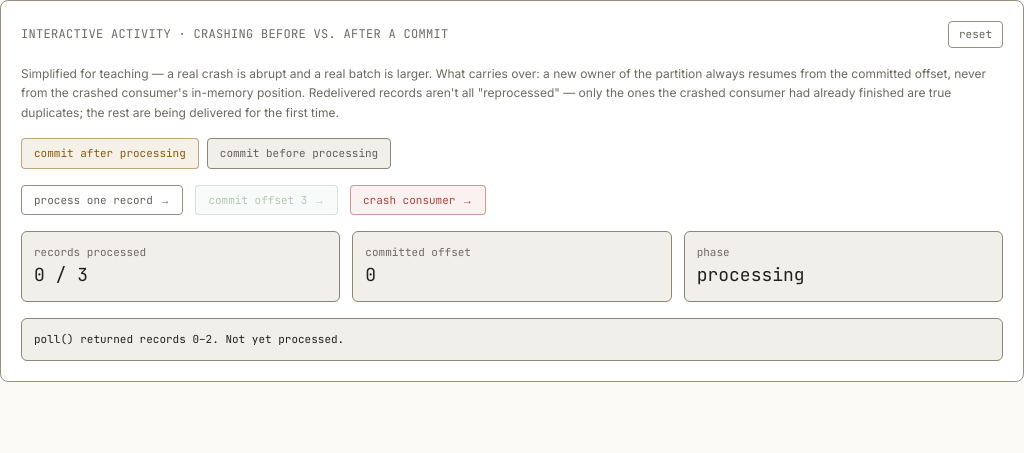
Test case: CommitCrashDemo › enforces the commit-after-processing policy through the buttons
This screenshot has width=1024, height=453.
Expected: the button "commit offset 3 →" is disabled, [195, 184, 338, 215]
Click the button "process one record →". click: (102,200)
box: [21, 184, 183, 215]
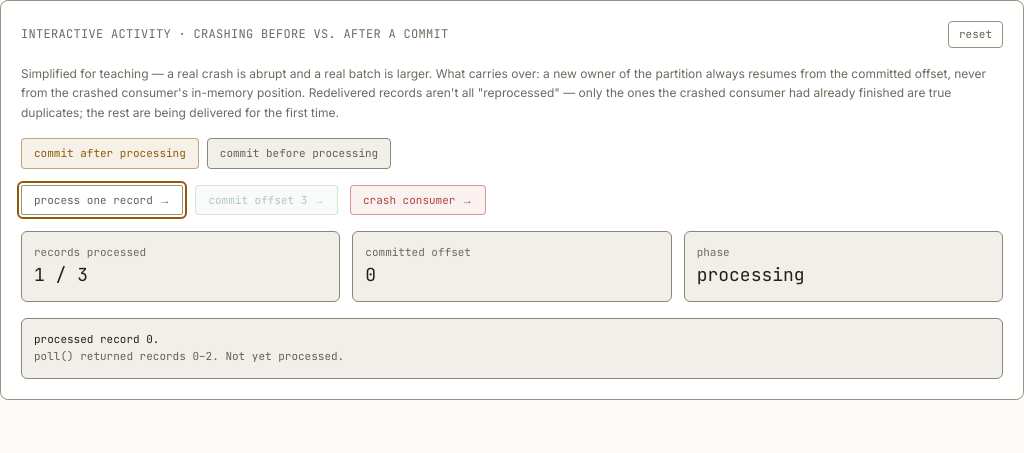
Click the button "process one record →". click: (102,200)
box: [21, 184, 183, 215]
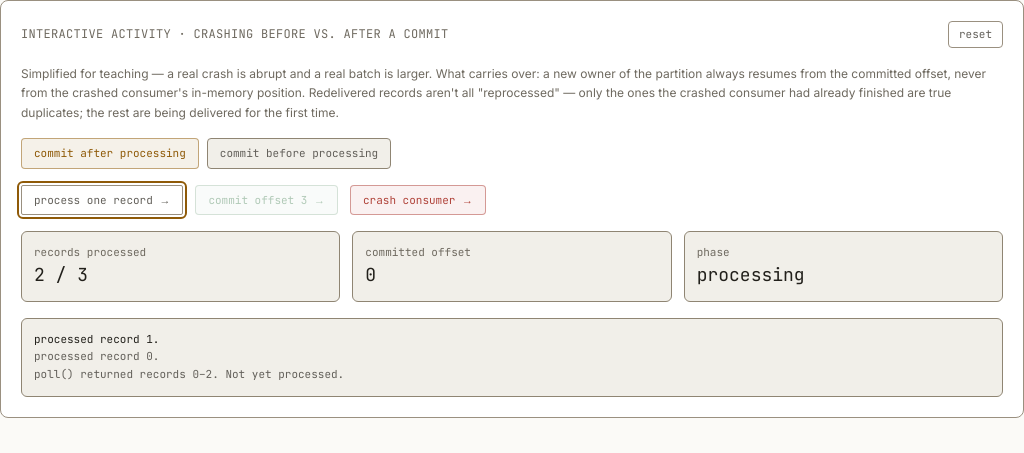
Click the button "process one record →". click: (102,200)
box: [21, 184, 183, 215]
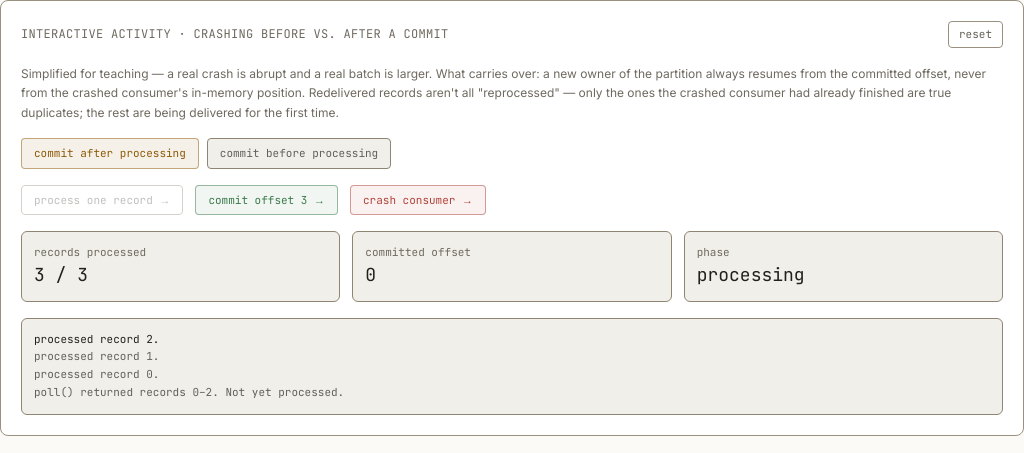
Expected: the button "commit offset 3 →" is enabled, [195, 184, 338, 215]
